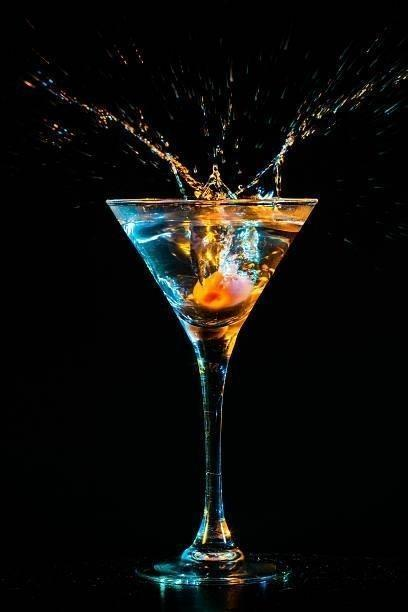glass-wine: (103, 191, 322, 588)
